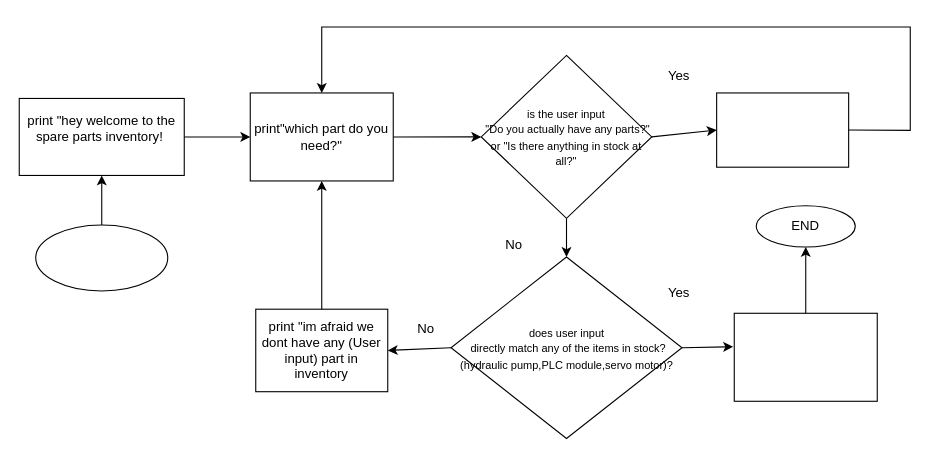
This 938x459 diagram has some shape labels left out. The centre of each missing label's shape, as x and y in pixels:
print "we have {part count} parts" print list of items: (x=782, y=129)
Print("yes! here is {part}): (x=805, y=356)
START: (x=101, y=257)
